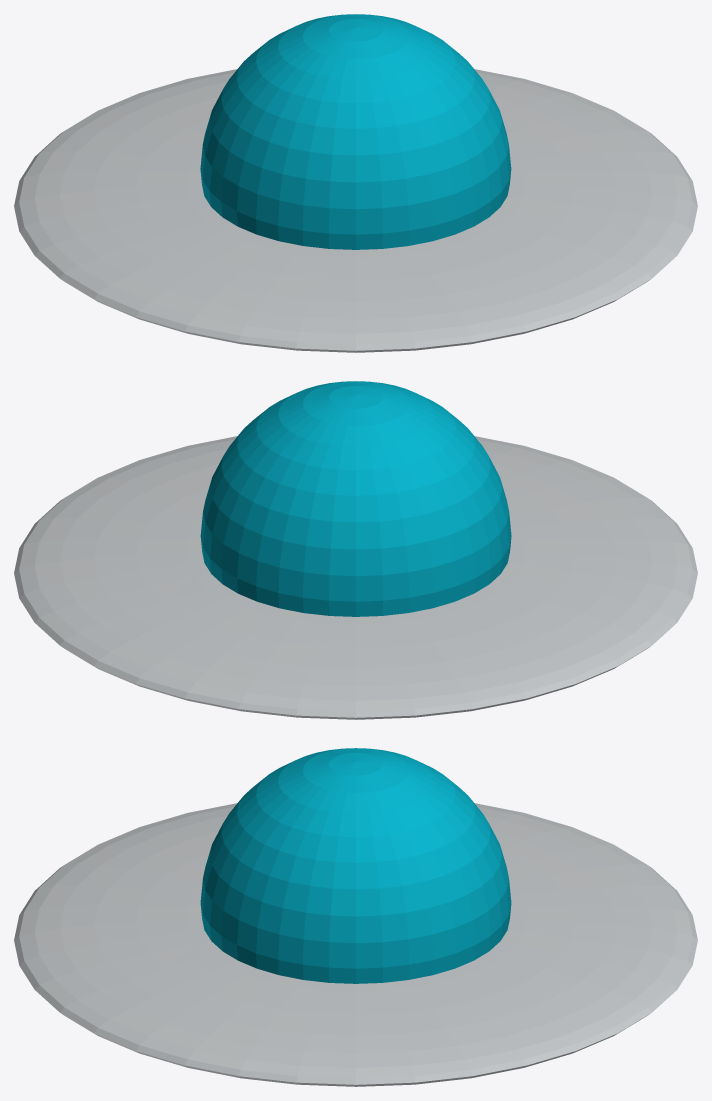
Rendered from Alien eyes.glb.
3 renders of one model, top to bottom at view 1: azimuth 30°, elevation 25°; view 2: azimuth 150°, elevation 25°; view 3: azimuth 270°, elevation 25°, orthographic.
Visible parts, largest first — view 1: Mesh_Mesh_head_geo.001_lambert2SG.001; view 2: Mesh_Mesh_head_geo.001_lambert2SG.001; view 3: Mesh_Mesh_head_geo.001_lambert2SG.001.
Boxes of the visible parts, left/top/right/bottom form: Mesh_Mesh_head_geo.001_lambert2SG.001: left=14, top=14, right=697, bottom=352; Mesh_Mesh_head_geo.001_lambert2SG.001: left=14, top=381, right=697, bottom=719; Mesh_Mesh_head_geo.001_lambert2SG.001: left=14, top=748, right=697, bottom=1086.
Bounding box in the file's own units: 257 × 117 × 257.
